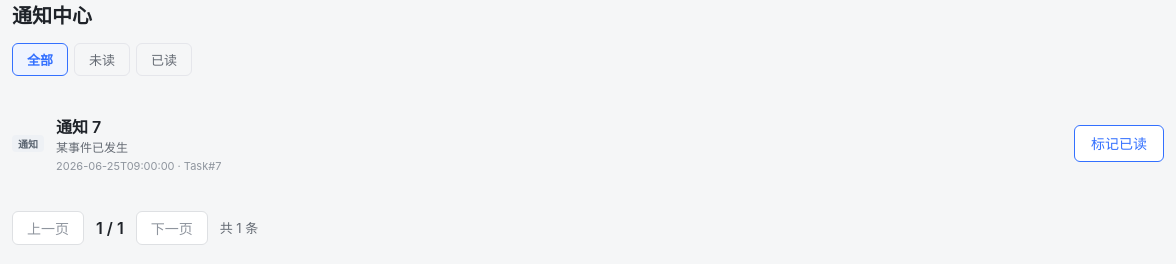
Test: NotificationsPage (F3 TC-NOTIF-PAGE) › marks a single row as read and refetches (TC-NOTIF-PAGE-03)
Click the button with test id "notif-row-mark-7" at (1119, 143), box [1074,125,1164,162]
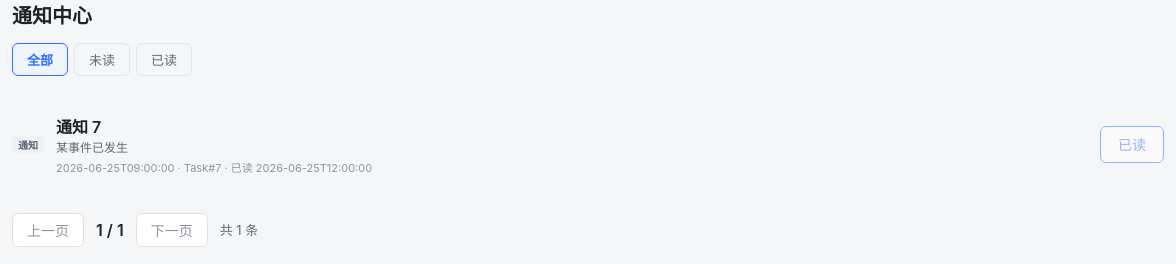
Result: the button with test id "notif-row-mark-7" is disabled at [1100,126,1164,163]
